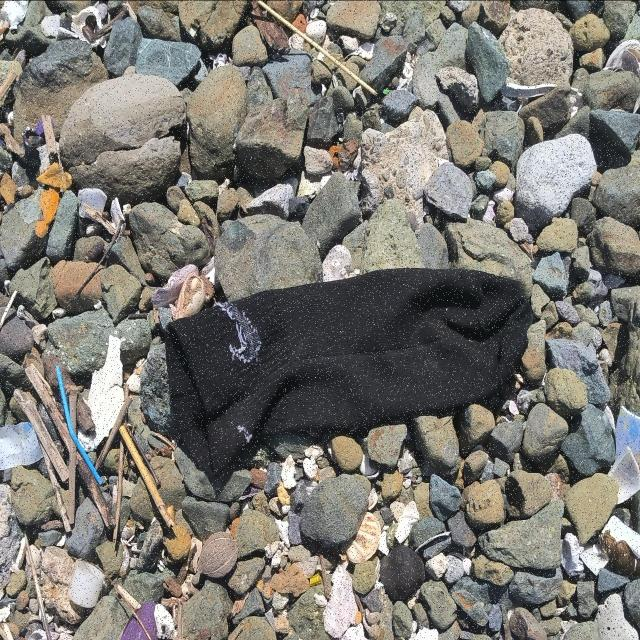plastic_waste: (56, 366, 104, 489)
textile_waste: (166, 267, 533, 481)
